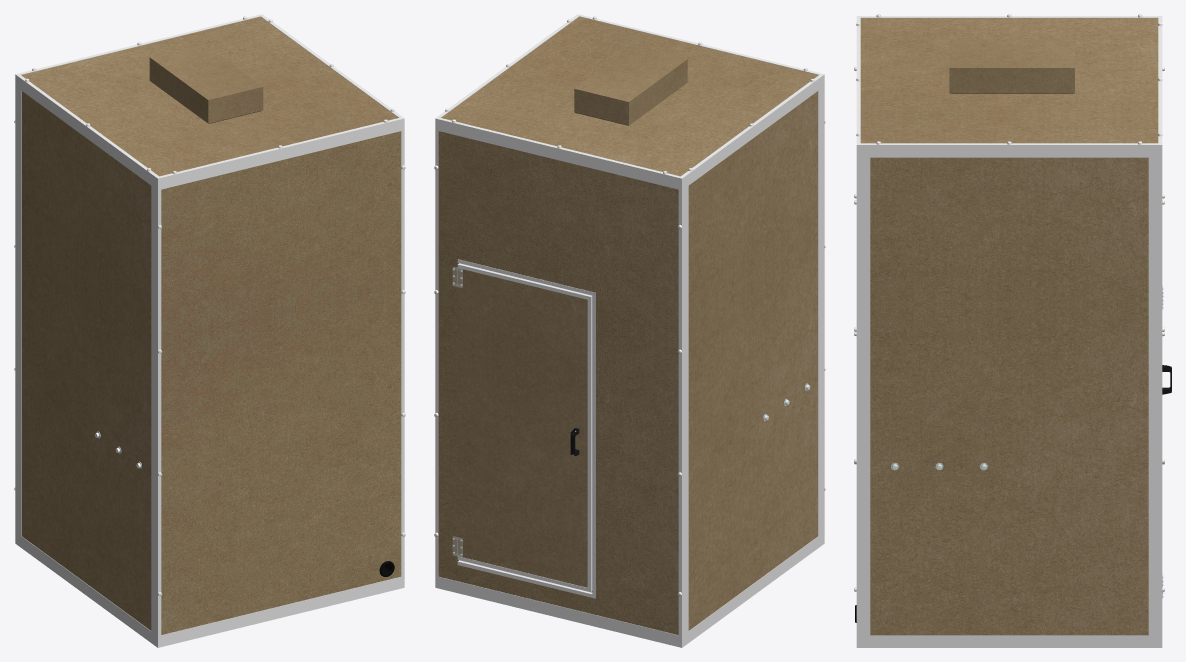
File: danbocchi_grande-v6stl_m2-lowply_joint_mobile.fbx
3 renders of one model, left to right at view 1: azimuth 30°, elevation 25°; view 2: azimuth 150°, elevation 25°; view 3: azimuth 270°, elevation 25°, orthographic. The views are drawn at different scales.
Parts seen in each view (by area): view 1: d6g RearPanel, d6g RightPanel, d6g RoofPanel, d6g Silencer, d6g FloorPanel, d6g FrontPanel; view 2: d6g FrontPanel, d6g RightPanel, d6g DoorPanel, d6g RoofPanel, d6g Silencer, d6g FloorPanel, d6g RearPanel; view 3: d6g LeftPanel, d6g RoofPanel, d6g Silencer, d6g RearPanel, d6g FrontPanel, d6g FloorPanel.
Boxes of the visible parts, x1,y1,x2,y2 form: d6g RearPanel: (153,127,405,639); d6g RightPanel: (19,86,153,635); d6g RoofPanel: (15,14,404,186); d6g Silencer: (149,44,263,123); d6g FloorPanel: (15,535,404,647); d6g FrontPanel: (14,83,19,538); d6g FrontPanel: (434,127,686,639); d6g RightPanel: (686,86,820,635); d6g DoorPanel: (457,263,592,592); d6g RoofPanel: (435,14,824,186); d6g Silencer: (574,46,687,125); d6g FloorPanel: (435,535,824,647); d6g RearPanel: (820,83,825,538); d6g LeftPanel: (866,154,1152,639); d6g RoofPanel: (856,14,1162,153); d6g Silencer: (949,39,1074,93); d6g RearPanel: (854,66,866,639); d6g FrontPanel: (1152,66,1164,639); d6g FloorPanel: (856,639,1162,647).
Size of the model in its own units: 110 by 206 by 112.
